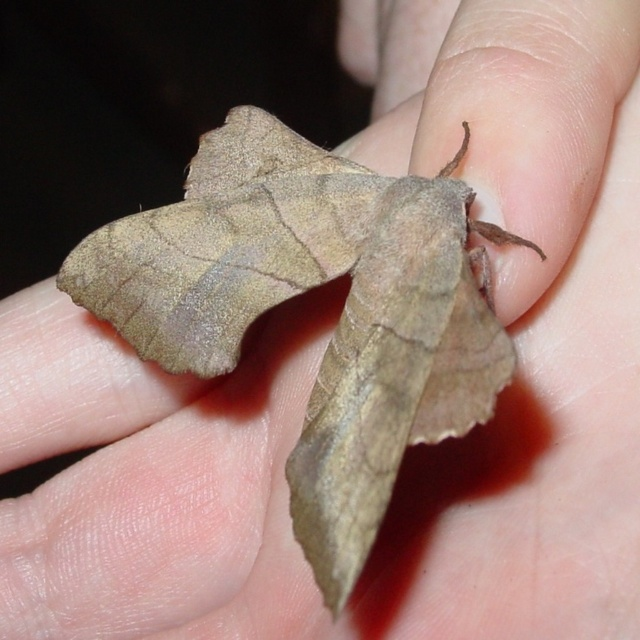Moths and butterflies: (57, 106, 546, 625)
